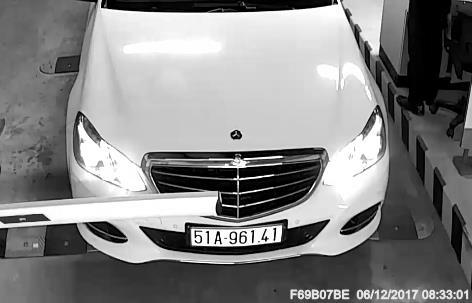License-plate: (181, 218, 293, 255)
